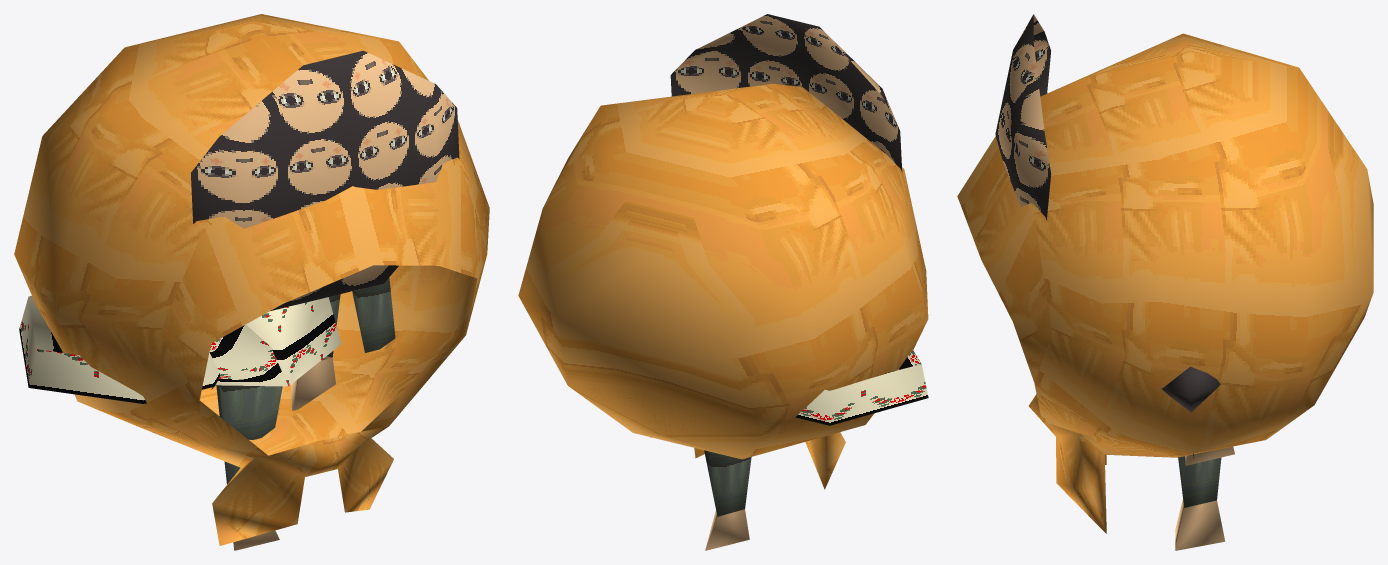
Rendered from npc1073_0.gltf.
The picture shows the model from 3 angles, left to right: view 1: azimuth 30°, elevation 25°; view 2: azimuth 150°, elevation 25°; view 3: azimuth 270°, elevation 25°; orthographic projection. The views are drawn at different scales.
Parts seen in each view (by area): view 1: npc1073_0; view 2: npc1073_0; view 3: npc1073_0.
Boxes of the visible parts, x1,y1,x2,y2 form: npc1073_0: [14, 14, 489, 550]; npc1073_0: [518, 14, 928, 550]; npc1073_0: [957, 14, 1373, 550].
Bounding box in the file's own units: 1.19 × 1.35 × 0.9946.
4 materials, 4 textured.
